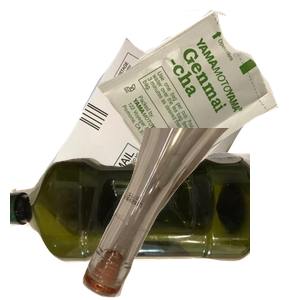glass: (80, 128, 300, 300)
paper: (31, 35, 271, 215)
plastic: (10, 149, 250, 300)
trash: (91, 10, 300, 186)
